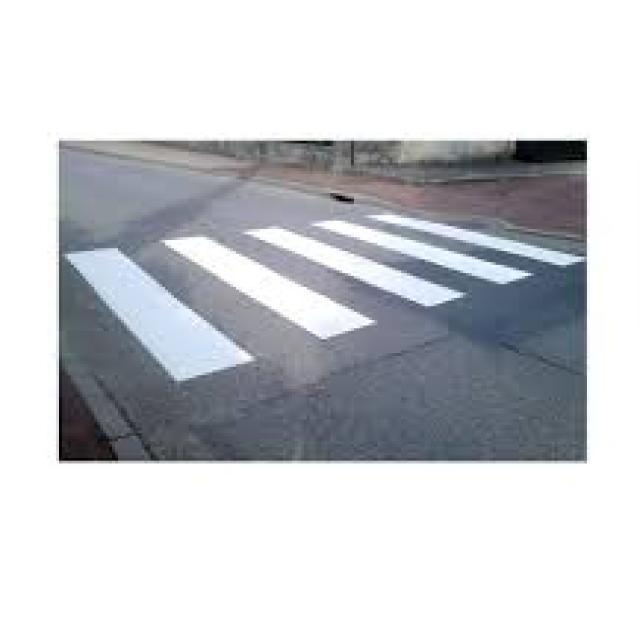crosswalk: (59, 209, 582, 401)
